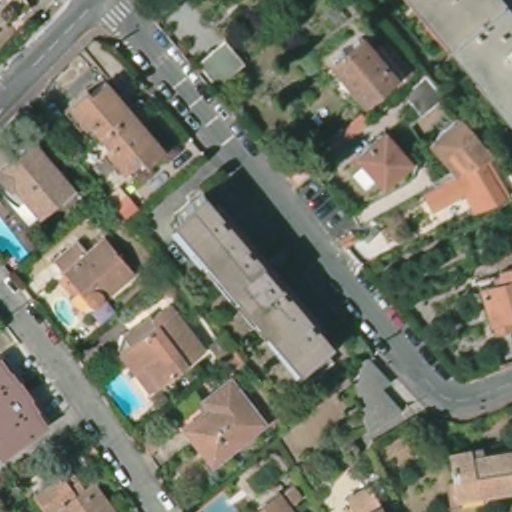pool: (106, 372, 152, 423), (1, 202, 31, 267), (52, 297, 76, 328)
